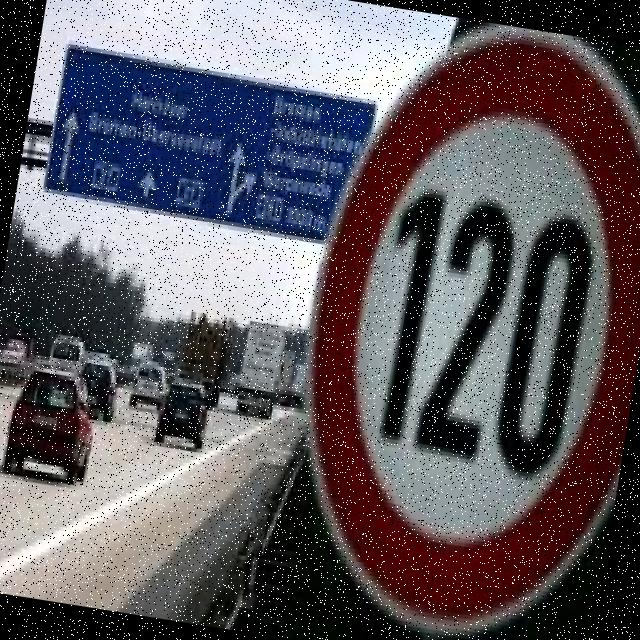speed_limit_120: (255, 1, 640, 640)
